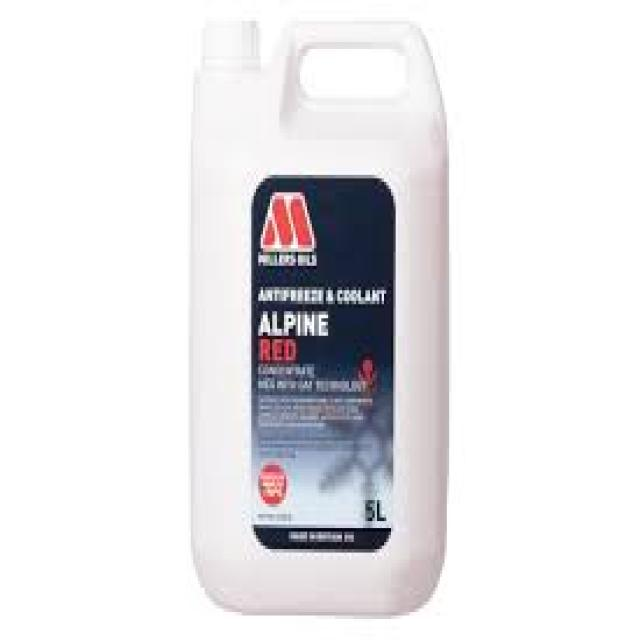coolant: (188, 9, 456, 625)
